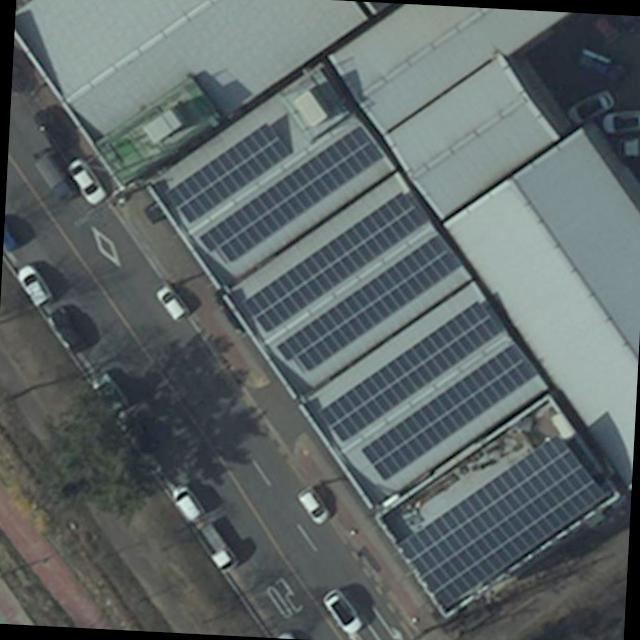solar: (392, 428, 608, 626), (237, 181, 428, 345), (273, 223, 464, 386), (196, 115, 388, 277), (314, 292, 506, 452), (357, 336, 543, 484), (158, 115, 298, 234)
